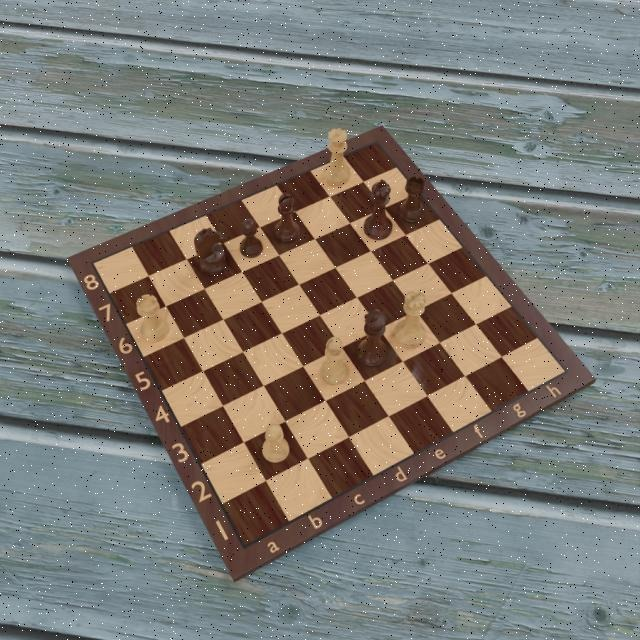black-bishop: (273, 191, 301, 245)
black-king: (363, 178, 393, 242)
black-knight: (194, 226, 230, 278)
black-pawn: (239, 218, 265, 260)
black-queen: (354, 309, 389, 370)
black-rook: (399, 174, 428, 224)
white-bishop: (320, 334, 348, 386)
white-king: (393, 286, 429, 350)
white-pawn: (260, 422, 292, 465)
white-queen: (323, 128, 353, 189)
white-rook: (134, 294, 170, 346)
